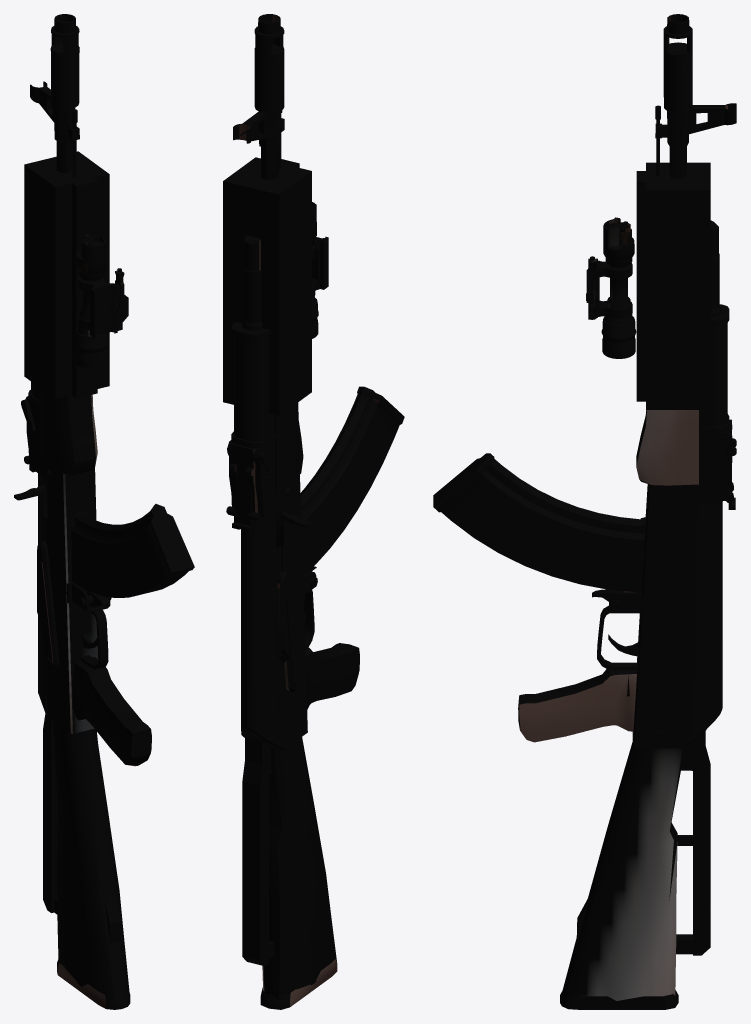
File: AK74__Handguard_AK_Quad__Light_Weapon__Stock_AK_Folding.fbx
3 renders of one model, left to right at view 1: azimuth 30°, elevation 25°; view 2: azimuth 150°, elevation 25°; view 3: azimuth 270°, elevation 25°, orthographic. The views are drawn at different scales.
Visible parts, largest first — view 1: asset_AK74.001; view 2: asset_AK74.001; view 3: asset_AK74.001.
Boxes of the visible parts, x1,y1,x2,y2 form: asset_AK74.001: [14, 14, 194, 1009]; asset_AK74.001: [223, 14, 404, 1009]; asset_AK74.001: [433, 14, 736, 1009].
Size of the model in its own units: 0.046 by 0.564 by 0.1574.
